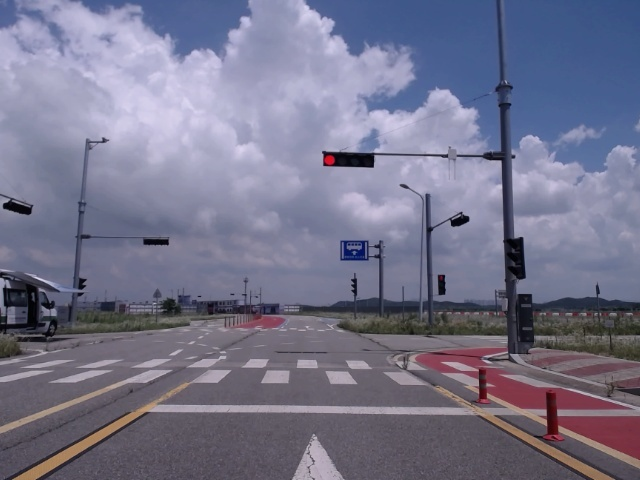red_4: (323, 153, 374, 168)
